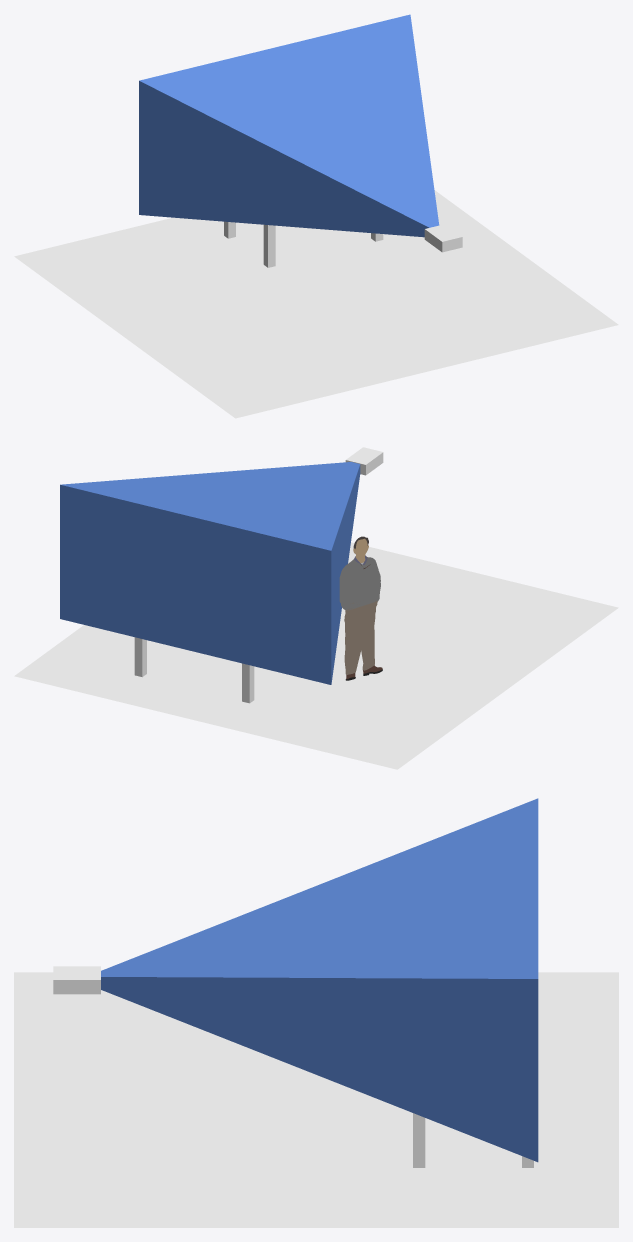
File: SET_06_PASTEL.obj
3 renders of one model, top to bottom at view 1: azimuth 30°, elevation 25°; view 2: azimuth 150°, elevation 25°; view 3: azimuth 270°, elevation 25°, orthographic. The views are drawn at different scales.
Visible parts, largest first — view 1: Mesh2 Component_9_1 Model, Mesh3 Component_67_1 Component_66_1 Component_65_1 Model, Mesh9 Component_68_1 Component_70_1 Model, Mesh4 Component_6_1 Component_66_1 Component_65_1 Model; view 2: Mesh2 Component_9_1 Model, Mesh3 Component_67_1 Component_66_1 Component_65_1 Model, Mesh1 Derrick1 Model, Mesh9 Component_68_1 Component_70_1 Model, Mesh4 Component_6_1 Component_66_1 Component_65_1 Model; view 3: Mesh2 Component_9_1 Model, Mesh3 Component_67_1 Component_66_1 Component_65_1 Model, Mesh4 Component_6_1 Component_66_1 Component_65_1 Model, Mesh9 Component_68_1 Component_70_1 Model.
Part boxes in pixels (x1=…): Mesh2 Component_9_1 Model: x1=14, y1=190, x2=618, y2=418; Mesh3 Component_67_1 Component_66_1 Component_65_1 Model: x1=139, y1=14, x2=439, y2=237; Mesh9 Component_68_1 Component_70_1 Model: x1=224, y1=221, x2=383, y2=267; Mesh4 Component_6_1 Component_66_1 Component_65_1 Model: x1=424, y1=224, x2=462, y2=252; Mesh2 Component_9_1 Model: x1=14, y1=542, x2=618, y2=769; Mesh3 Component_67_1 Component_66_1 Component_65_1 Model: x1=60, y1=462, x2=360, y2=684; Mesh1 Derrick1 Model: x1=339, y1=536, x2=382, y2=680; Mesh9 Component_68_1 Component_70_1 Model: x1=134, y1=637, x2=254, y2=703; Mesh4 Component_6_1 Component_66_1 Component_65_1 Model: x1=345, y1=447, x2=383, y2=475; Mesh2 Component_9_1 Model: x1=14, y1=972, x2=618, y2=1227; Mesh3 Component_67_1 Component_66_1 Component_65_1 Model: x1=101, y1=798, x2=538, y2=1162; Mesh4 Component_6_1 Component_66_1 Component_65_1 Model: x1=53, y1=966, x2=100, y2=994; Mesh9 Component_68_1 Component_70_1 Model: x1=413, y1=1113, x2=533, y2=1167.
Size of the model in its own units: 5000 by 2168 by 5000.
